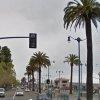Tree: (0, 43, 16, 88)
